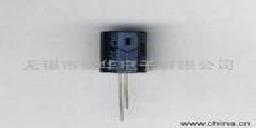Electrolytic-Capacitor: (94, 28, 155, 127)
